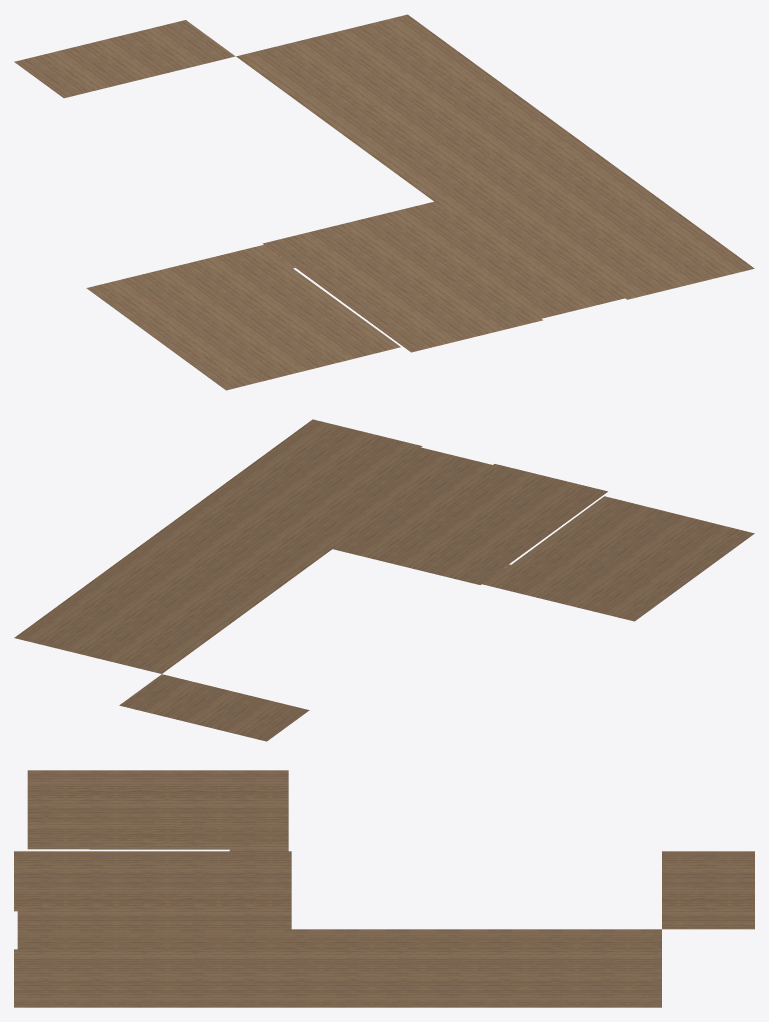
Rendered from FLOOR01.glb.
3 views of the same model, one above another, from view 1: azimuth 30°, elevation 25°; view 2: azimuth 150°, elevation 25°; view 3: azimuth 270°, elevation 25° (orthographic). The views are drawn at different scales.
Visible parts, largest first — view 1: FLOOR01; view 2: FLOOR01; view 3: FLOOR01.
Part boxes in pixels (<box>): FLOOR01: <box>14,14,754,390</box>; FLOOR01: <box>14,419,754,741</box>; FLOOR01: <box>14,770,754,1007</box>.
Bounding box in the file's own units: 3640 × 4.62 × 4802.
1 material, 1 textured.
